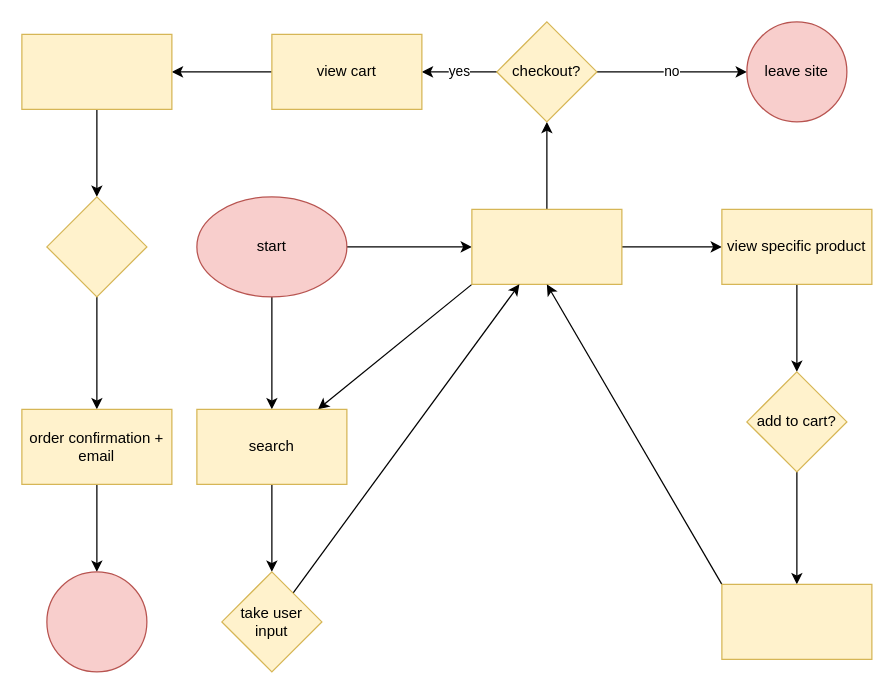
Image size: 894x694. Some labels were removed from this diagram. The shapes that lost their labels are listed below. From the top down, each one's centre as x and y in pixels, then its label:
(96,71): view payment
(96,246): enter payment info
(546,246): explore products
(796,621): add to cart confirmation
